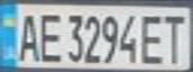2: (81, 10, 103, 64)
3: (60, 9, 84, 63)
4: (118, 10, 142, 64)
9: (100, 10, 121, 64)
A: (12, 9, 42, 62)
E: (33, 8, 63, 63), (139, 11, 169, 65)
T: (160, 10, 190, 64)
